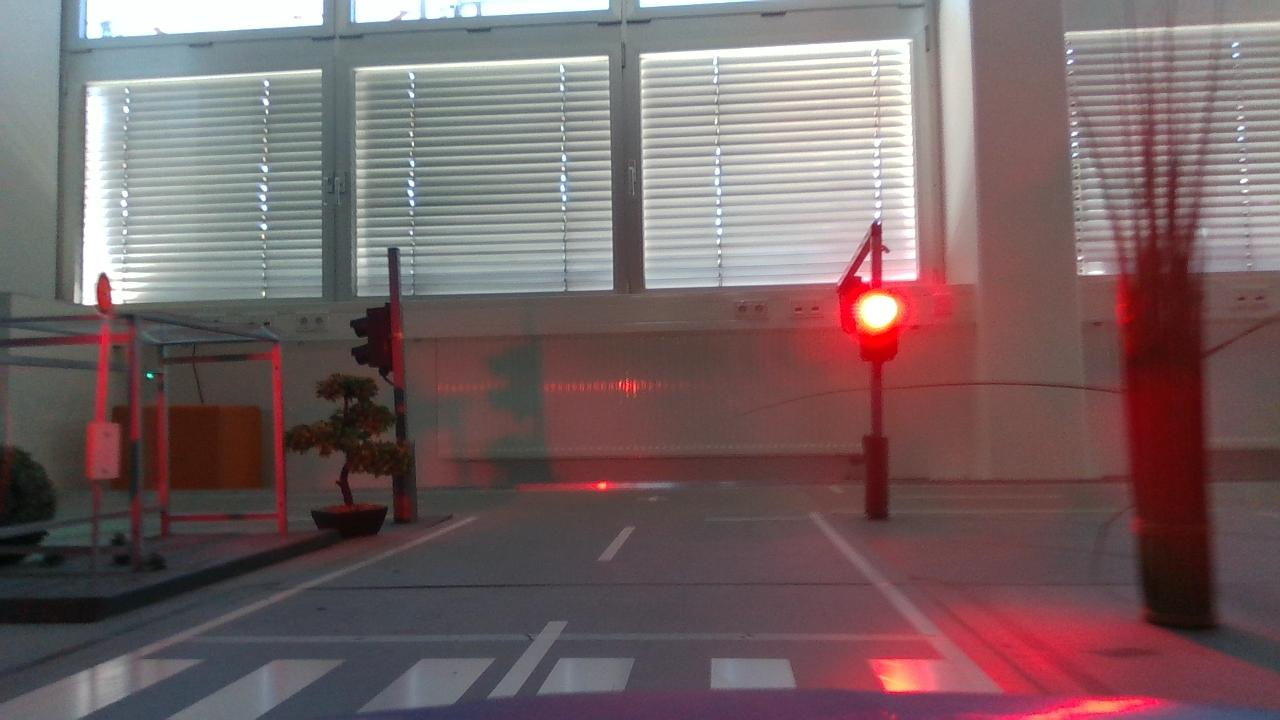traffic_light_red: (842, 288, 908, 371)
